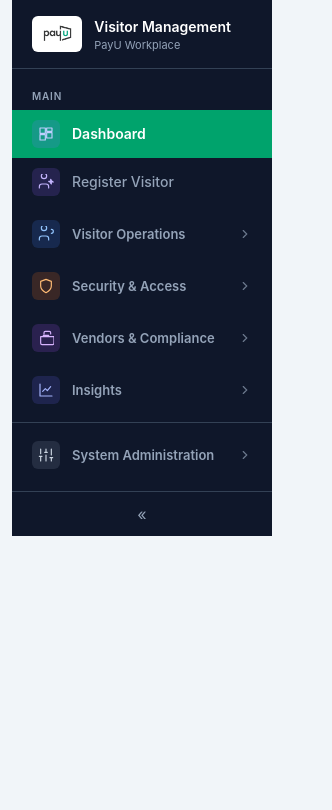
Test: Sidebar UI › accordion opens only one group at a time
The width and height of the screenshot is (332, 810).
Click the button "Visitor Operations" at (142, 234), box 12,210 -> 272,258
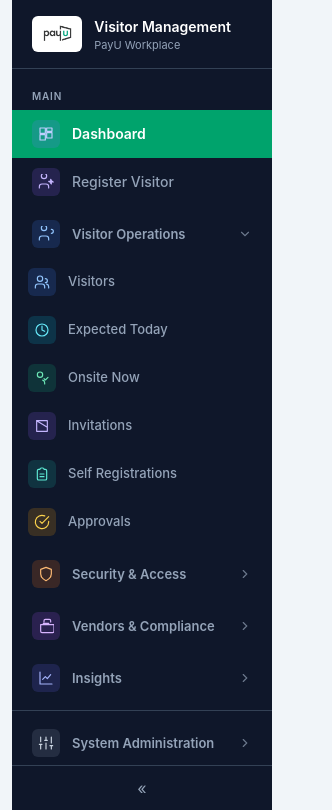
Click the button "Security & Access" at (142, 574), box 12,550 -> 272,598
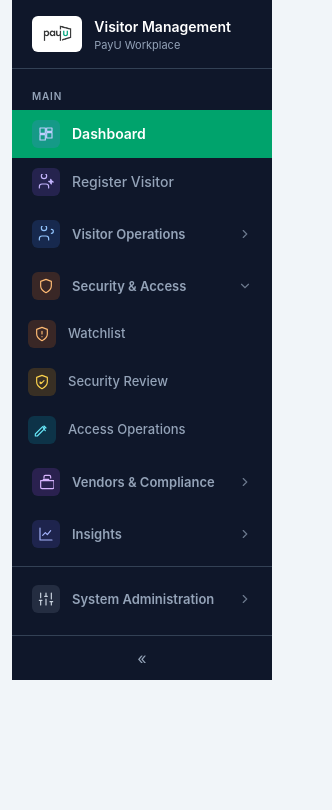
Check: the button "Security & Access" is expanded, box 12,262 -> 272,310
Check: the text "Watchlist" is shown, box 68,324 -> 125,343
